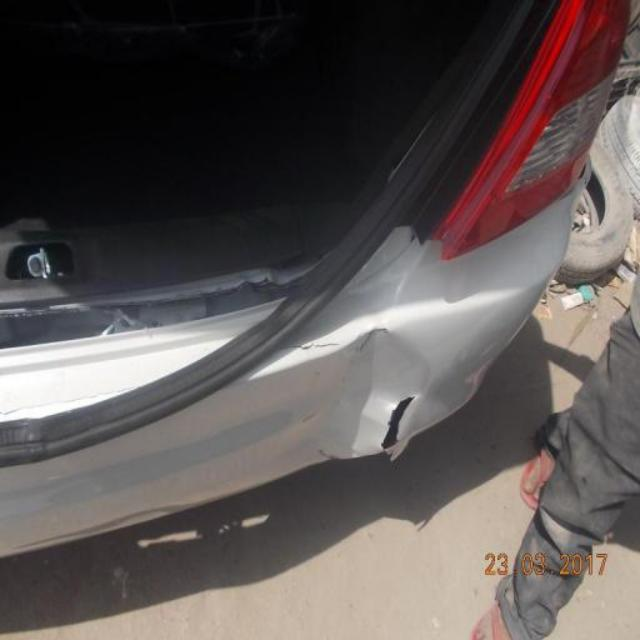crack: (380, 394, 418, 453)
dent: (313, 325, 432, 462)
